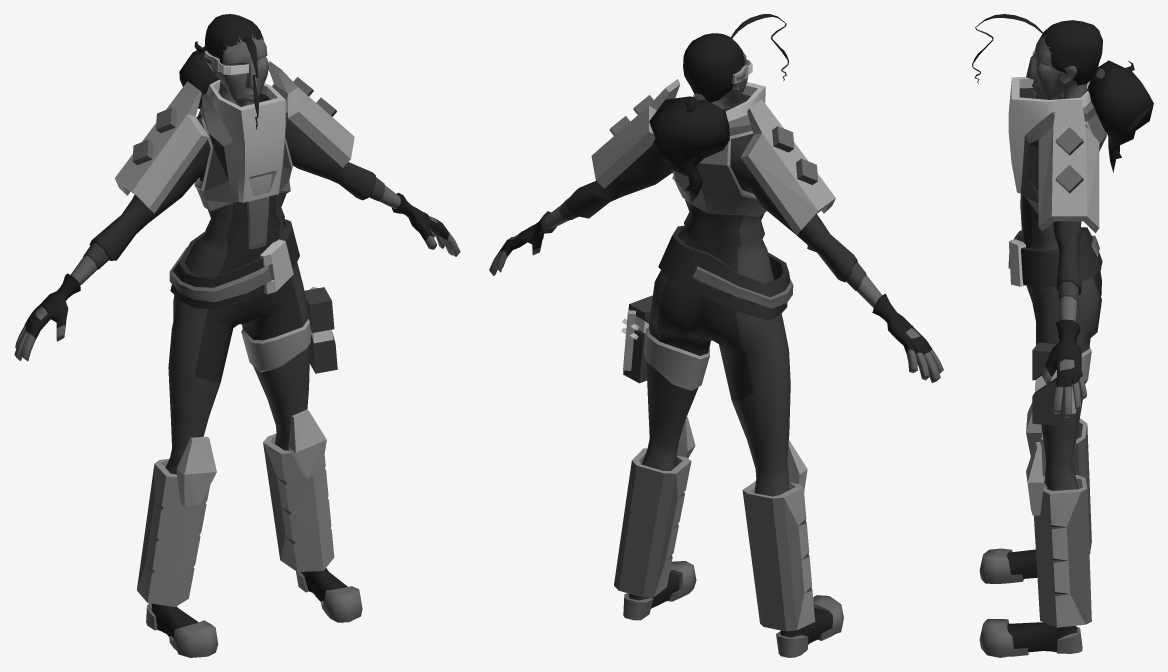
Rendered from mercenary.FBX.
3 views of the same model, side by side, from view 1: azimuth 30°, elevation 25°; view 2: azimuth 150°, elevation 25°; view 3: azimuth 270°, elevation 25° (orthographic).
Visible parts, largest first — view 1: mercenary; view 2: mercenary; view 3: mercenary.
Boxes of the visible parts, x1,y1,x2,y2 form: mercenary: [14, 14, 460, 657]; mercenary: [489, 14, 943, 657]; mercenary: [972, 14, 1153, 657].
Bounding box in the file's own units: 65.41 × 83.53 × 23.24.
